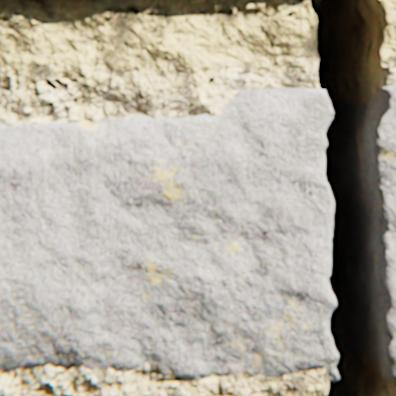broken_brick: (0, 88, 338, 380), (374, 85, 395, 378)
crack: (311, 0, 395, 395)
